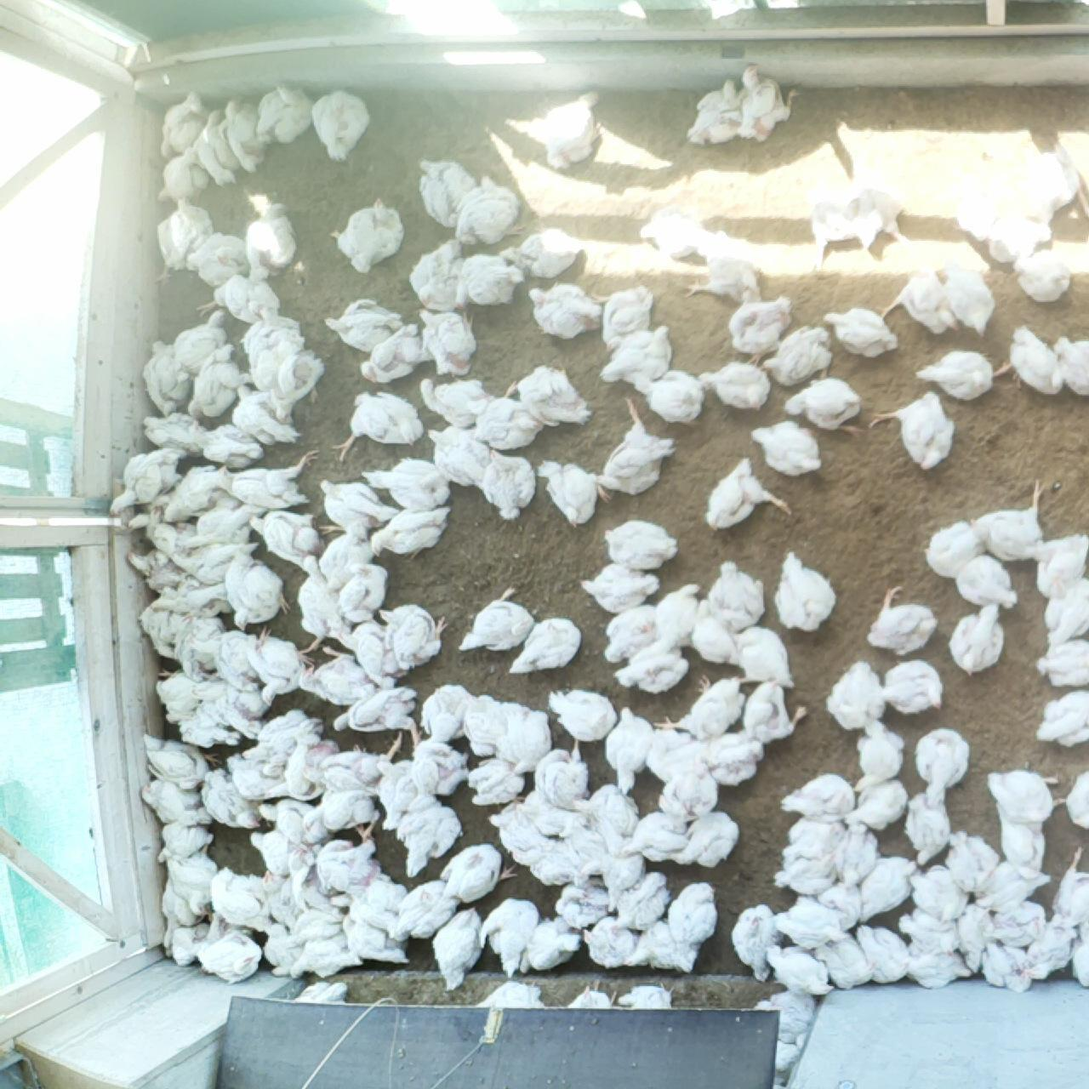chicken: (592, 397, 675, 496), (868, 384, 959, 472), (332, 388, 430, 463), (702, 456, 793, 533), (968, 478, 1050, 563), (302, 738, 402, 805), (214, 448, 322, 510), (221, 548, 294, 632), (687, 228, 764, 307), (326, 617, 407, 692), (327, 198, 401, 279), (768, 549, 839, 633), (243, 502, 328, 572), (532, 89, 607, 168), (845, 154, 909, 246), (912, 345, 1013, 402), (803, 178, 865, 270), (373, 601, 449, 676), (734, 58, 801, 143), (328, 683, 422, 743), (480, 895, 544, 983), (452, 175, 527, 250), (389, 805, 466, 878), (847, 854, 924, 927), (654, 676, 746, 737), (503, 612, 584, 681), (368, 502, 461, 562), (884, 263, 960, 336), (867, 582, 940, 658), (358, 452, 450, 512), (597, 319, 677, 388), (454, 587, 536, 654), (308, 477, 398, 538), (435, 841, 518, 907), (394, 870, 467, 945), (296, 646, 378, 711), (245, 629, 314, 706), (293, 552, 349, 645), (430, 905, 489, 993), (535, 461, 613, 527), (987, 763, 1070, 825), (739, 676, 810, 748), (634, 362, 707, 432), (194, 269, 284, 325), (569, 781, 642, 850), (308, 88, 376, 162), (782, 376, 863, 438), (519, 362, 595, 427), (524, 279, 602, 342), (230, 379, 304, 445), (697, 349, 772, 414), (621, 920, 705, 978), (945, 600, 1009, 676), (191, 339, 248, 424), (477, 379, 546, 449), (940, 249, 996, 335), (496, 225, 585, 279), (268, 345, 327, 426), (155, 201, 217, 278), (108, 448, 180, 514), (683, 79, 748, 152), (177, 499, 260, 556), (413, 302, 476, 377), (704, 559, 767, 634), (418, 368, 498, 427), (261, 744, 338, 805), (485, 797, 553, 866), (314, 825, 386, 890), (355, 324, 427, 389), (747, 419, 826, 478), (168, 541, 263, 590), (244, 189, 298, 275), (826, 657, 886, 734), (1015, 149, 1080, 220), (418, 681, 482, 753), (731, 292, 791, 368), (422, 421, 492, 486), (658, 759, 720, 832), (636, 202, 714, 260), (913, 725, 970, 804), (922, 515, 989, 582), (490, 707, 556, 775), (173, 604, 227, 687), (683, 597, 747, 667), (592, 281, 654, 353), (412, 155, 472, 229), (530, 738, 590, 812), (409, 235, 465, 314), (951, 165, 1009, 241), (615, 810, 695, 865), (902, 936, 974, 997), (318, 519, 375, 596), (450, 253, 524, 312), (210, 865, 273, 934), (764, 325, 833, 388), (335, 910, 411, 967), (950, 550, 1021, 611), (819, 306, 899, 360), (876, 659, 948, 719), (615, 637, 687, 697), (755, 985, 819, 1052), (1032, 526, 1089, 601), (608, 703, 656, 792), (326, 296, 406, 349), (219, 97, 274, 174), (841, 772, 914, 830), (515, 913, 581, 977), (578, 560, 659, 612), (726, 628, 795, 689), (673, 808, 742, 869), (411, 730, 471, 800), (1024, 908, 1080, 983), (542, 687, 617, 743), (480, 449, 539, 520), (974, 860, 1053, 913), (334, 558, 392, 630), (159, 463, 224, 527), (162, 88, 220, 159), (850, 720, 906, 793), (194, 109, 245, 189), (246, 712, 326, 763), (256, 794, 330, 849), (1011, 325, 1065, 400), (902, 786, 952, 867), (136, 777, 213, 829), (601, 518, 678, 570), (189, 932, 263, 986), (156, 884, 210, 957), (287, 845, 341, 918), (139, 337, 187, 419), (198, 770, 267, 827), (778, 770, 852, 823), (814, 929, 876, 992), (1030, 689, 1089, 755), (377, 759, 428, 835), (141, 733, 211, 788), (649, 581, 701, 655), (254, 83, 315, 146), (609, 866, 669, 930), (287, 934, 363, 984), (176, 307, 228, 380), (160, 858, 222, 919), (943, 829, 997, 899), (767, 941, 834, 997), (150, 578, 239, 620), (781, 811, 850, 865), (577, 911, 638, 972), (603, 600, 661, 664), (338, 876, 408, 929), (302, 790, 379, 838), (906, 860, 968, 919), (775, 893, 844, 946), (190, 232, 255, 288), (994, 802, 1046, 872), (854, 917, 910, 982), (143, 413, 217, 462), (461, 756, 529, 809), (157, 143, 215, 205), (704, 724, 762, 786), (1038, 577, 1089, 647), (124, 486, 196, 535), (664, 879, 719, 943), (195, 417, 264, 468), (984, 214, 1054, 264), (1011, 249, 1077, 302), (517, 835, 583, 888), (1048, 840, 1089, 925), (773, 849, 844, 898), (249, 332, 304, 395), (731, 902, 776, 979), (549, 870, 609, 927), (257, 866, 307, 934), (897, 900, 961, 953), (975, 938, 1035, 994), (210, 629, 261, 694), (261, 922, 314, 984), (461, 690, 510, 757), (834, 817, 881, 885), (521, 790, 582, 842), (986, 898, 1048, 949), (136, 602, 190, 660), (644, 724, 705, 775), (602, 840, 643, 913), (1034, 636, 1089, 690), (556, 820, 607, 878), (954, 900, 995, 972), (156, 667, 204, 728), (154, 822, 219, 867), (169, 914, 222, 969), (202, 694, 262, 742), (240, 314, 304, 357), (171, 711, 239, 751), (247, 827, 306, 873), (126, 551, 192, 592), (285, 909, 346, 953), (188, 684, 265, 717), (1050, 331, 1089, 396), (818, 875, 864, 930), (474, 979, 546, 1012), (136, 523, 194, 561), (1061, 769, 1089, 835), (295, 975, 349, 1008), (1065, 916, 1089, 989), (618, 981, 675, 1010), (770, 1037, 798, 1089), (567, 983, 617, 1009)
